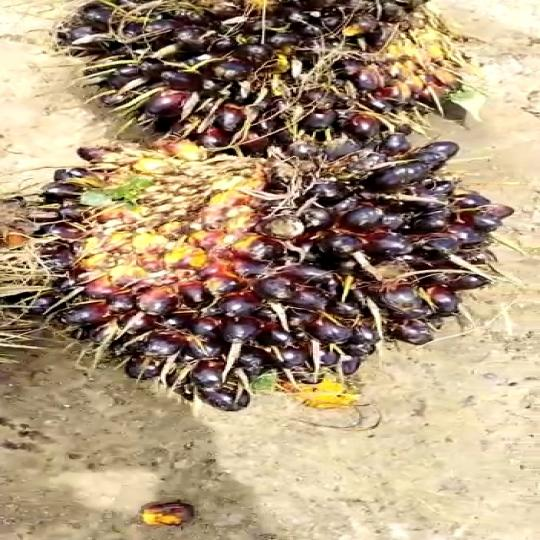mentah: (13, 106, 540, 414), (37, 0, 506, 152)
